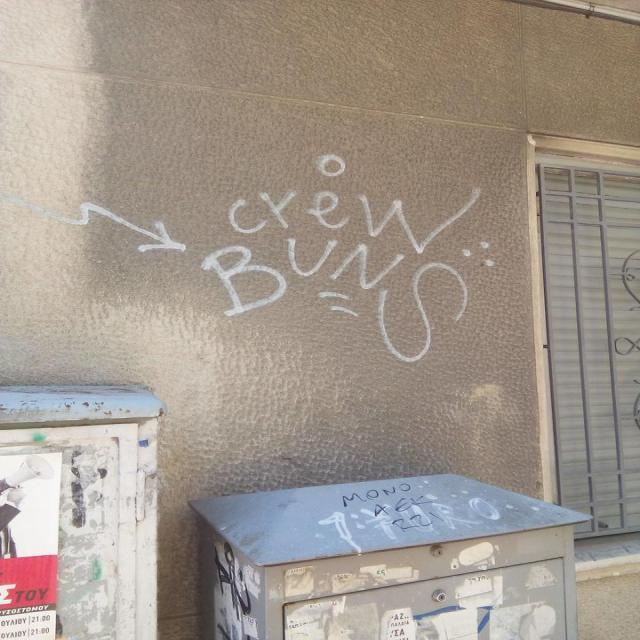nonspitting: (208, 154, 496, 363), (55, 200, 188, 253)
